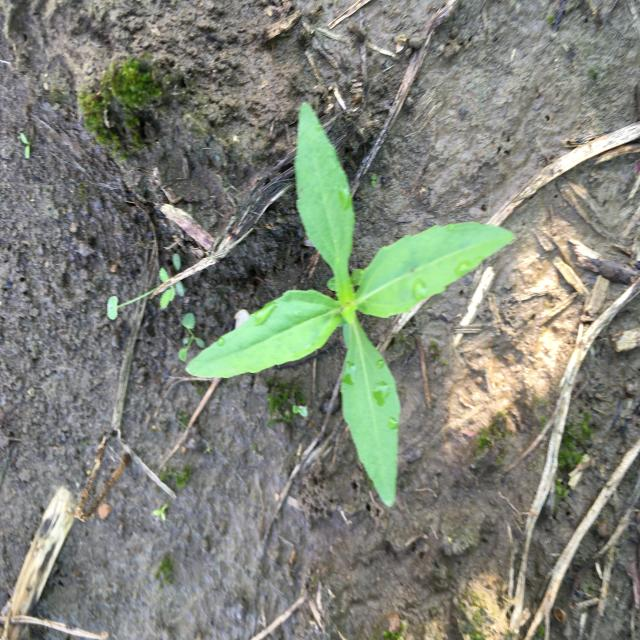Eclipta: (183, 100, 518, 511)
